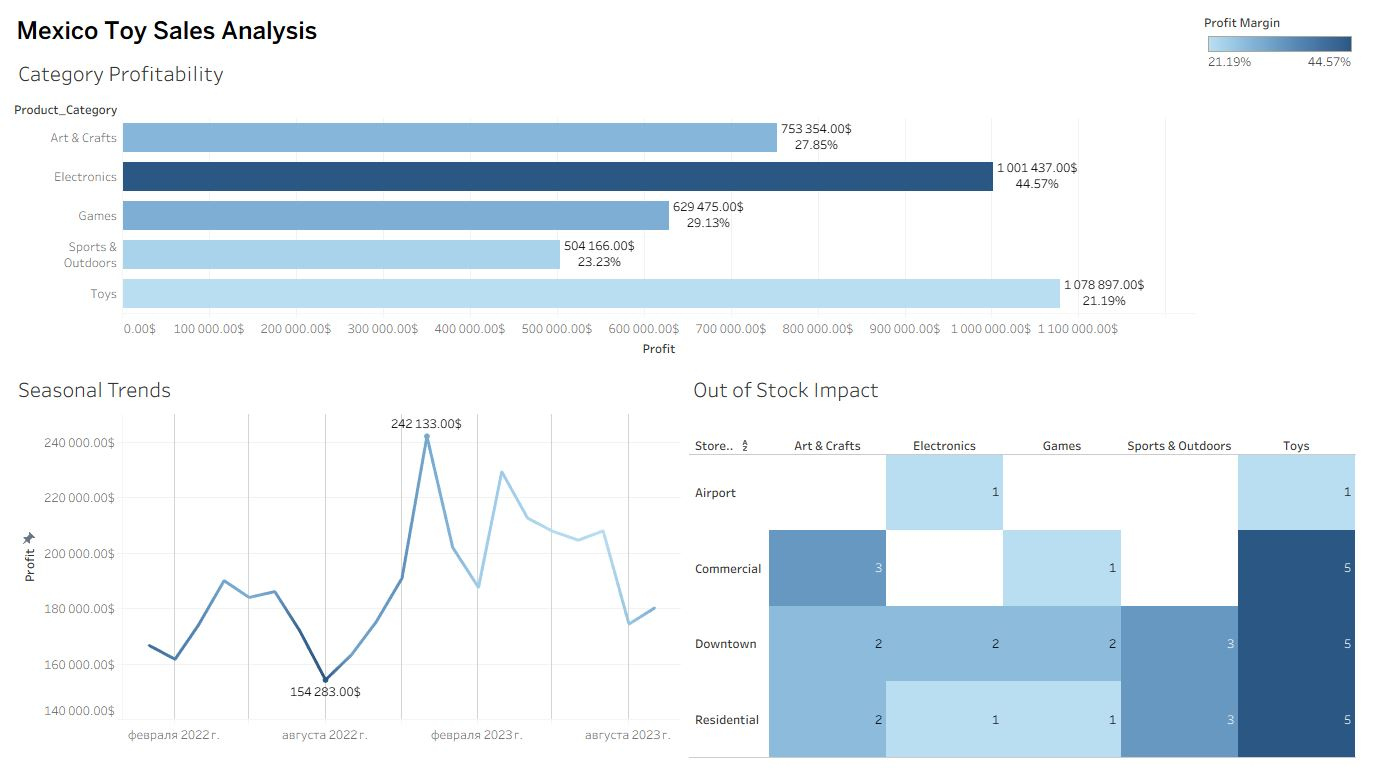

The page's visual inventory and layout, read from the dashboard file:
{"tool":"tableau","page":{"name":"Dashboard 1","canvas":[1366,768],"ordinal":0},"visuals":[{"type":"text","box":[8,8,1190,41]},{"type":"legend","title":"Category Profitability","param":"[federated.1sphvgr05rfmgm13vcm97013qssy].[usr:Calculation_0130063039774727:qk]","box":[1198,8,160,70]},{"type":"worksheet","title":"Category Profitability","mark":"Automatic","rows":["Product_Category"],"cols":["Calculation_0130063039434758"],"box":[8,49,1190,310]},{"type":"worksheet","title":"Seasonal Trends","mark":"Automatic","rows":["Calculation_0130063039434758"],"cols":["Date"],"box":[8,365,675,395]},{"type":"worksheet","title":"Out of Stock Impact","mark":"Square","rows":["Store_Location"],"cols":["Product_Category"],"box":[683,365,675,395]}]}

Visuals, with their boxes in screenshot pixels (x1, y1, x2, y2), scaled from the page's 1366x768 canvas onto the 1375x779 screenshot:
text: 8:8:1206:50
"Category Profitability" legend: 1206:8:1367:79
"Category Profitability" worksheet: 8:50:1206:364
"Seasonal Trends" worksheet: 8:370:688:771
"Out of Stock Impact" worksheet (Square marks): 688:370:1367:771
